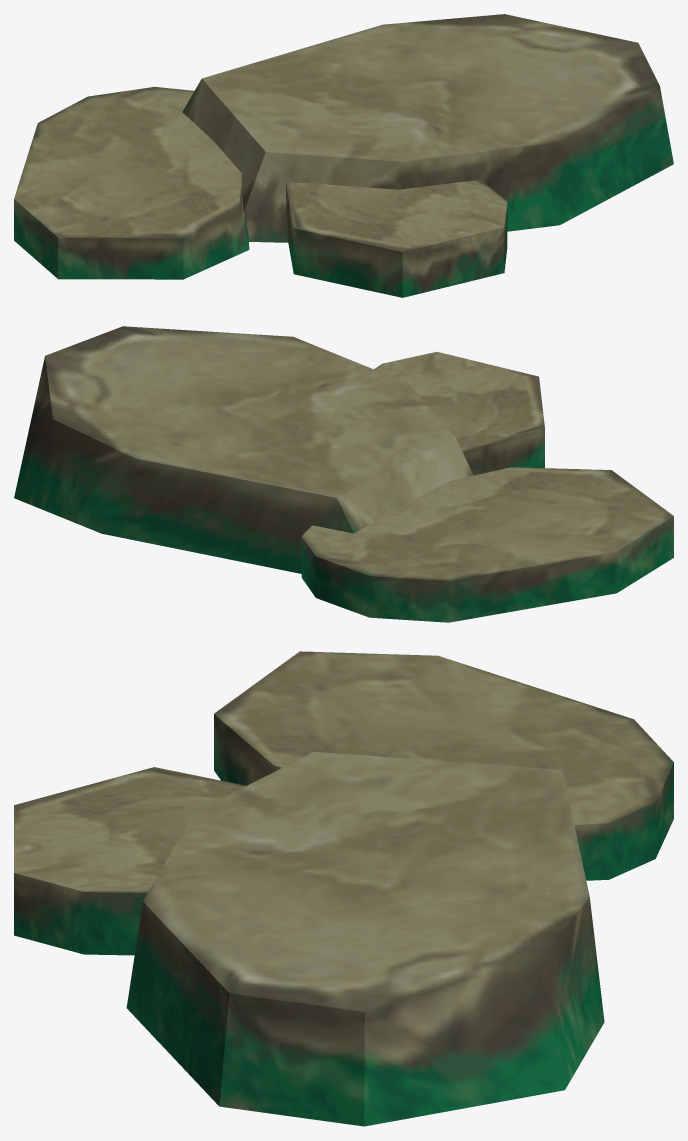
The model's file is Item_3002_shitou_sui02.FBX.
3 views of the same model, one above another, from view 1: azimuth 30°, elevation 25°; view 2: azimuth 150°, elevation 25°; view 3: azimuth 270°, elevation 25° (orthographic). The views are drawn at different scales.
Visible parts, largest first — view 1: c; view 2: c; view 3: c.
Part boxes in pixels (x1=…): c: x1=14, y1=14, x2=673, y2=297; c: x1=14, y1=326, x2=673, y2=622; c: x1=14, y1=651, x2=673, y2=1126.
Bounding box in the file's own units: 457 × 55.36 × 311.
